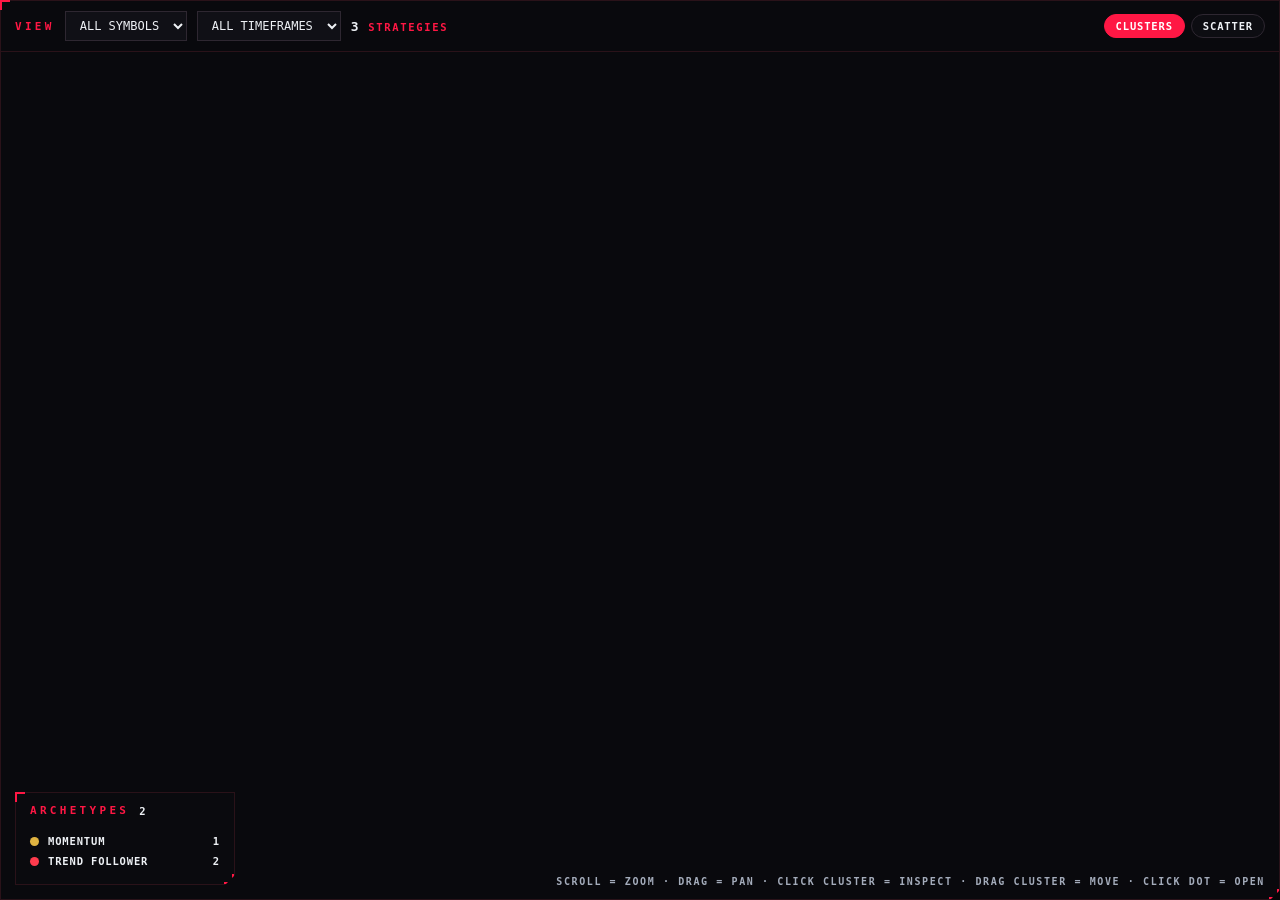
Test case: MAP › groups the vault into archetype clusters, filters by symbol, and opens a cluster's callout
This screenshot has width=1280, height=900.
Expected: the element with class "mapp-count" reads "3 STRATEGIES", top-left (351, 20), bottom-right (448, 32)
Click the text "TREND FOLLOWER": (98, 861) top-left (48, 855), bottom-right (148, 867)
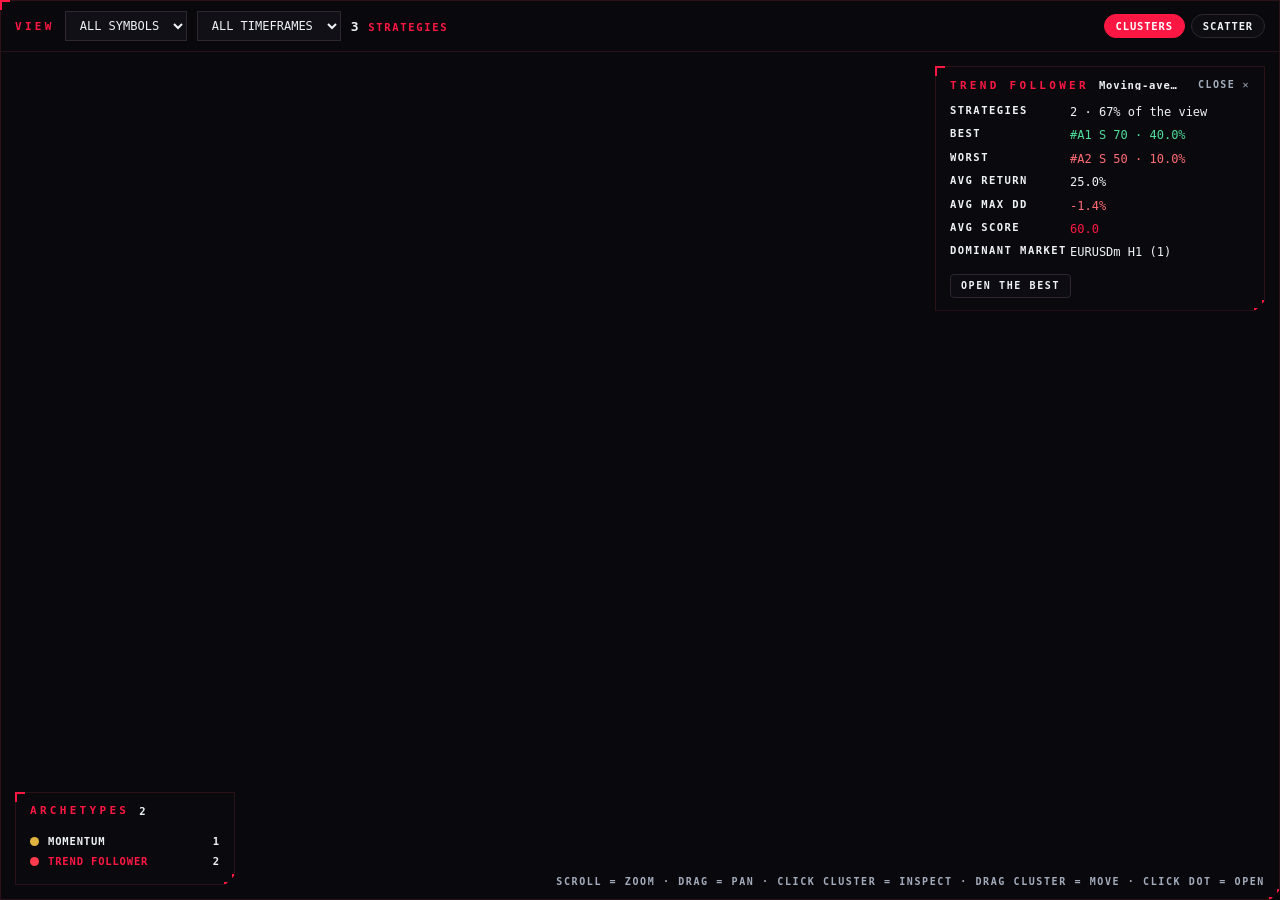
Expected: the dialog named "TREND FOLLOWER cluster" shows "2 · 67% of the view", top-left (935, 66), bottom-right (1265, 311)
Select "XAUUSDm" in the dropdown named "Symbol": (126, 26) top-left (65, 11), bottom-right (187, 41)
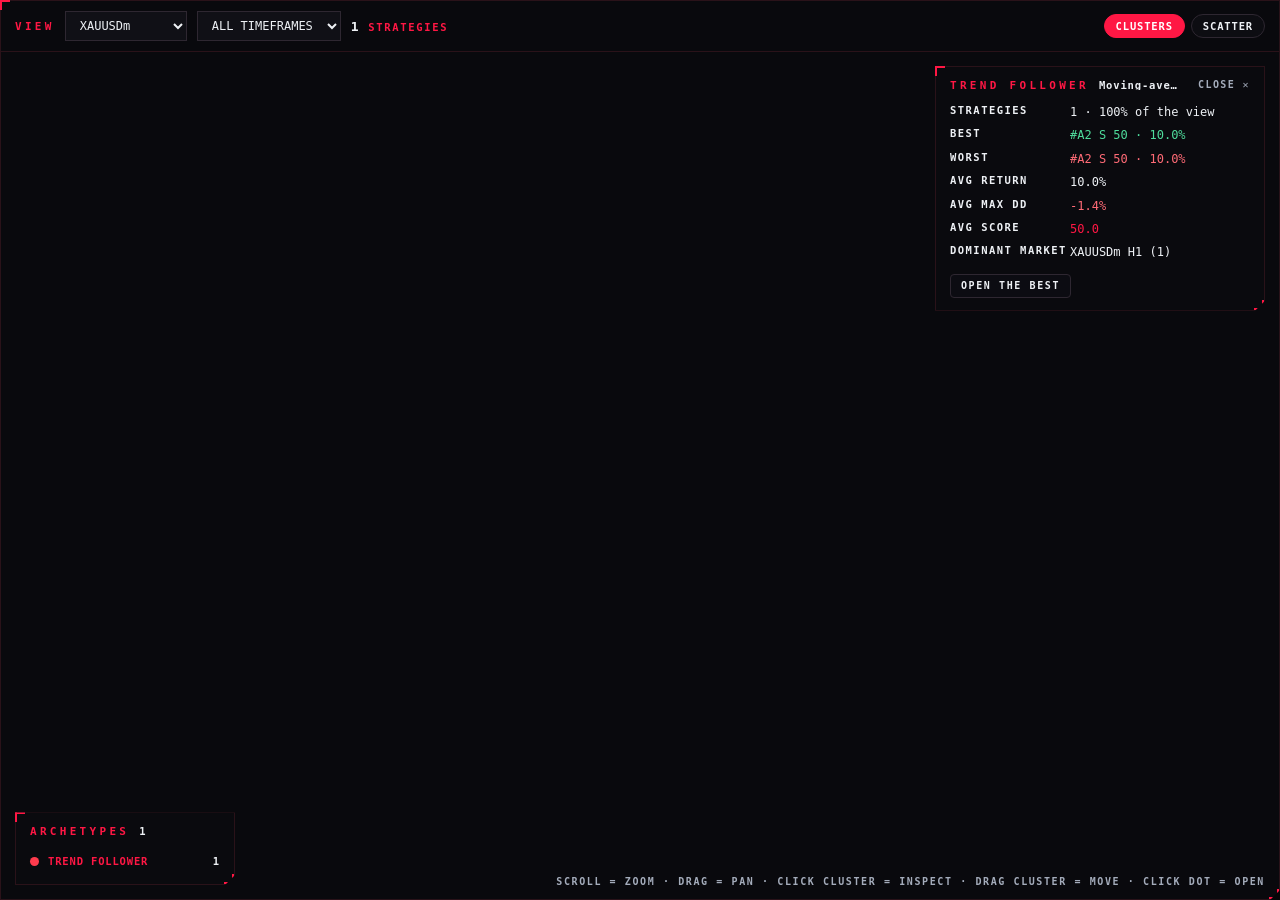
Expected: the element with class "mapp-count" reads "1 STRATEGIES", top-left (351, 20), bottom-right (448, 32)
Click the button "SCATTER": (1228, 26) top-left (1191, 14), bottom-right (1265, 38)
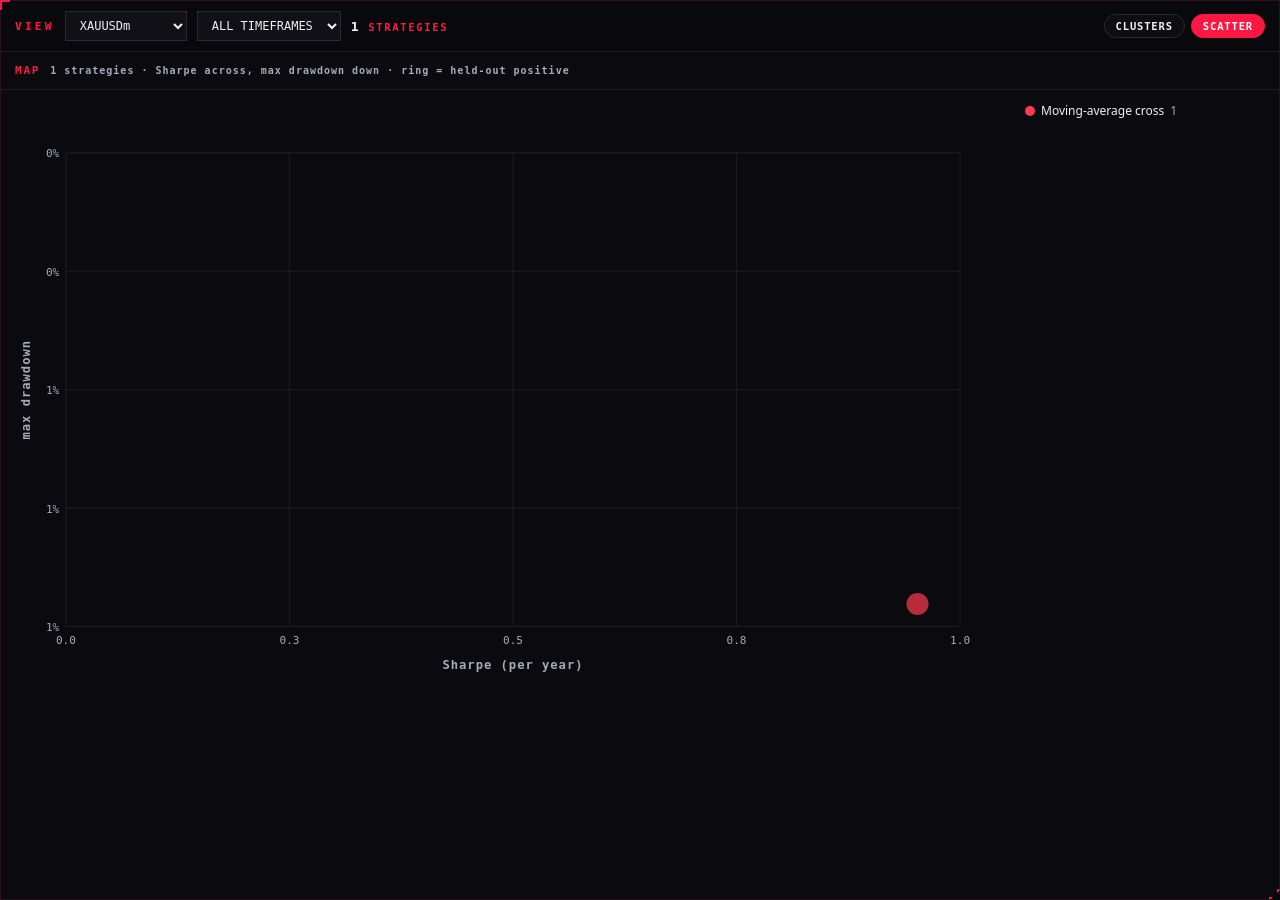
Expected: the element named "Strategy map" is shown
